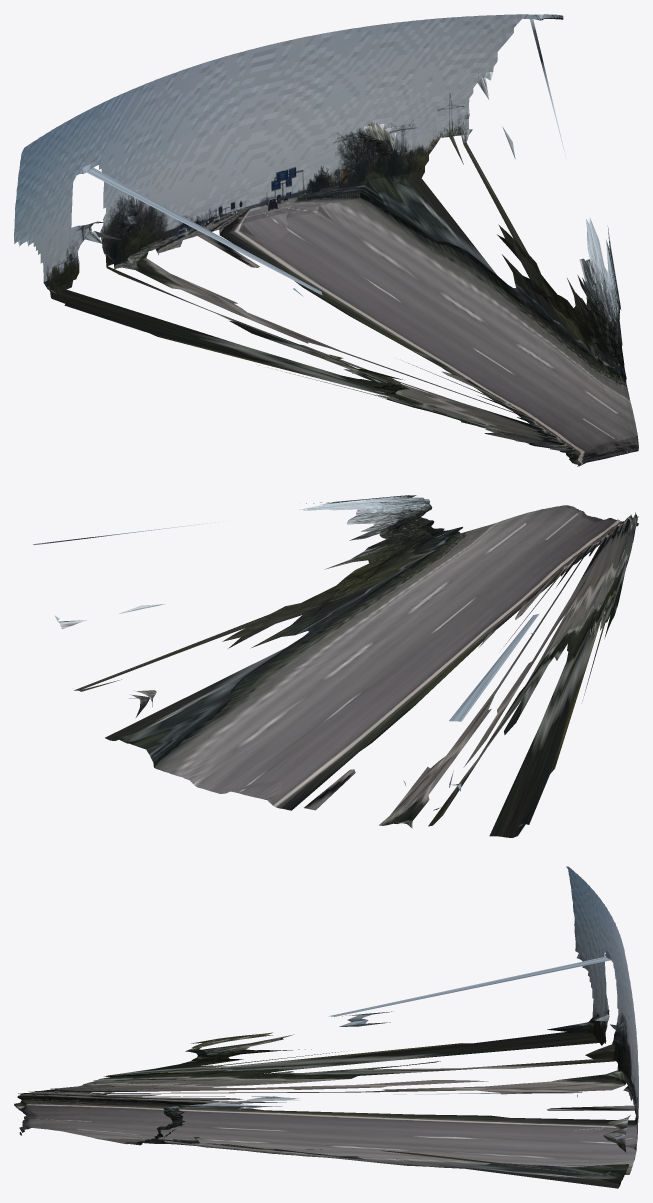
3 views of the same model, one above another, from view 1: azimuth 30°, elevation 25°; view 2: azimuth 150°, elevation 25°; view 3: azimuth 270°, elevation 25° (orthographic). The views are drawn at different scales.
Visible parts, largest first — view 1: defaultobject; view 2: defaultobject; view 3: defaultobject.
Part boxes in pixels (box(x1,y1,x2,y2)): defaultobject: box(14, 14, 638, 466); defaultobject: box(33, 495, 638, 837); defaultobject: box(14, 866, 638, 1188).
Size of the model in its own units: 40.17 by 13.09 by 44.74.
1 material, 1 textured.
